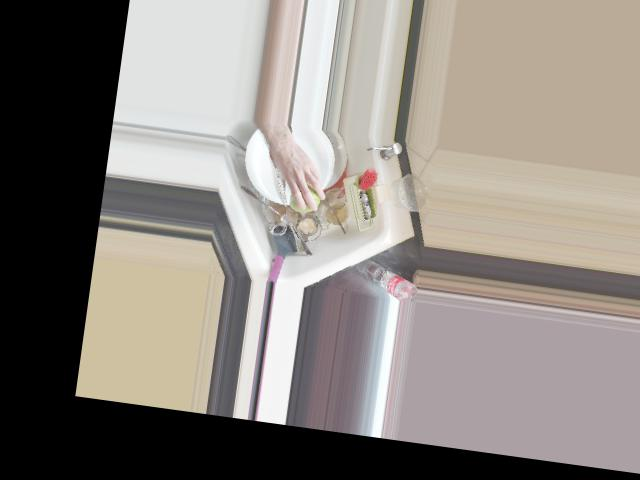apple: (286, 178, 322, 214)
